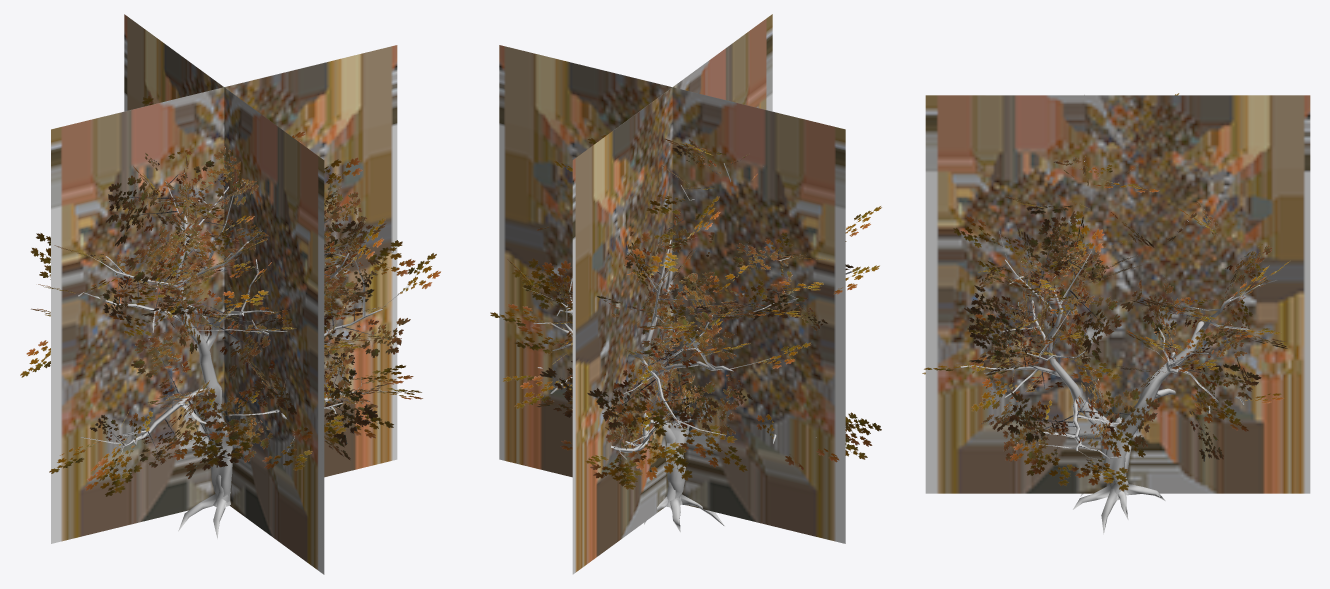
File: Tree-Maple3C.fbx
3 views of the same model, side by side, from view 1: azimuth 30°, elevation 25°; view 2: azimuth 150°, elevation 25°; view 3: azimuth 270°, elevation 25° (orthographic). The views are drawn at different scales.
Parts seen in each view (by area): view 1: Billboard-MapleC, Tree-Maple3C_LOD0; view 2: Billboard-MapleC, Tree-Maple3C_LOD0; view 3: Billboard-MapleC, Tree-Maple3C_LOD0.
Part boxes in pixels (x1,y1,x2,y2): Billboard-MapleC: [51, 14, 397, 574]; Tree-Maple3C_LOD0: [20, 96, 440, 538]; Billboard-MapleC: [499, 14, 845, 574]; Tree-Maple3C_LOD0: [490, 134, 881, 532]; Billboard-MapleC: [925, 95, 1310, 493]; Tree-Maple3C_LOD0: [922, 93, 1289, 534].
Size of what is drawn, in the model's own units: 3009 by 3297 by 2860.
